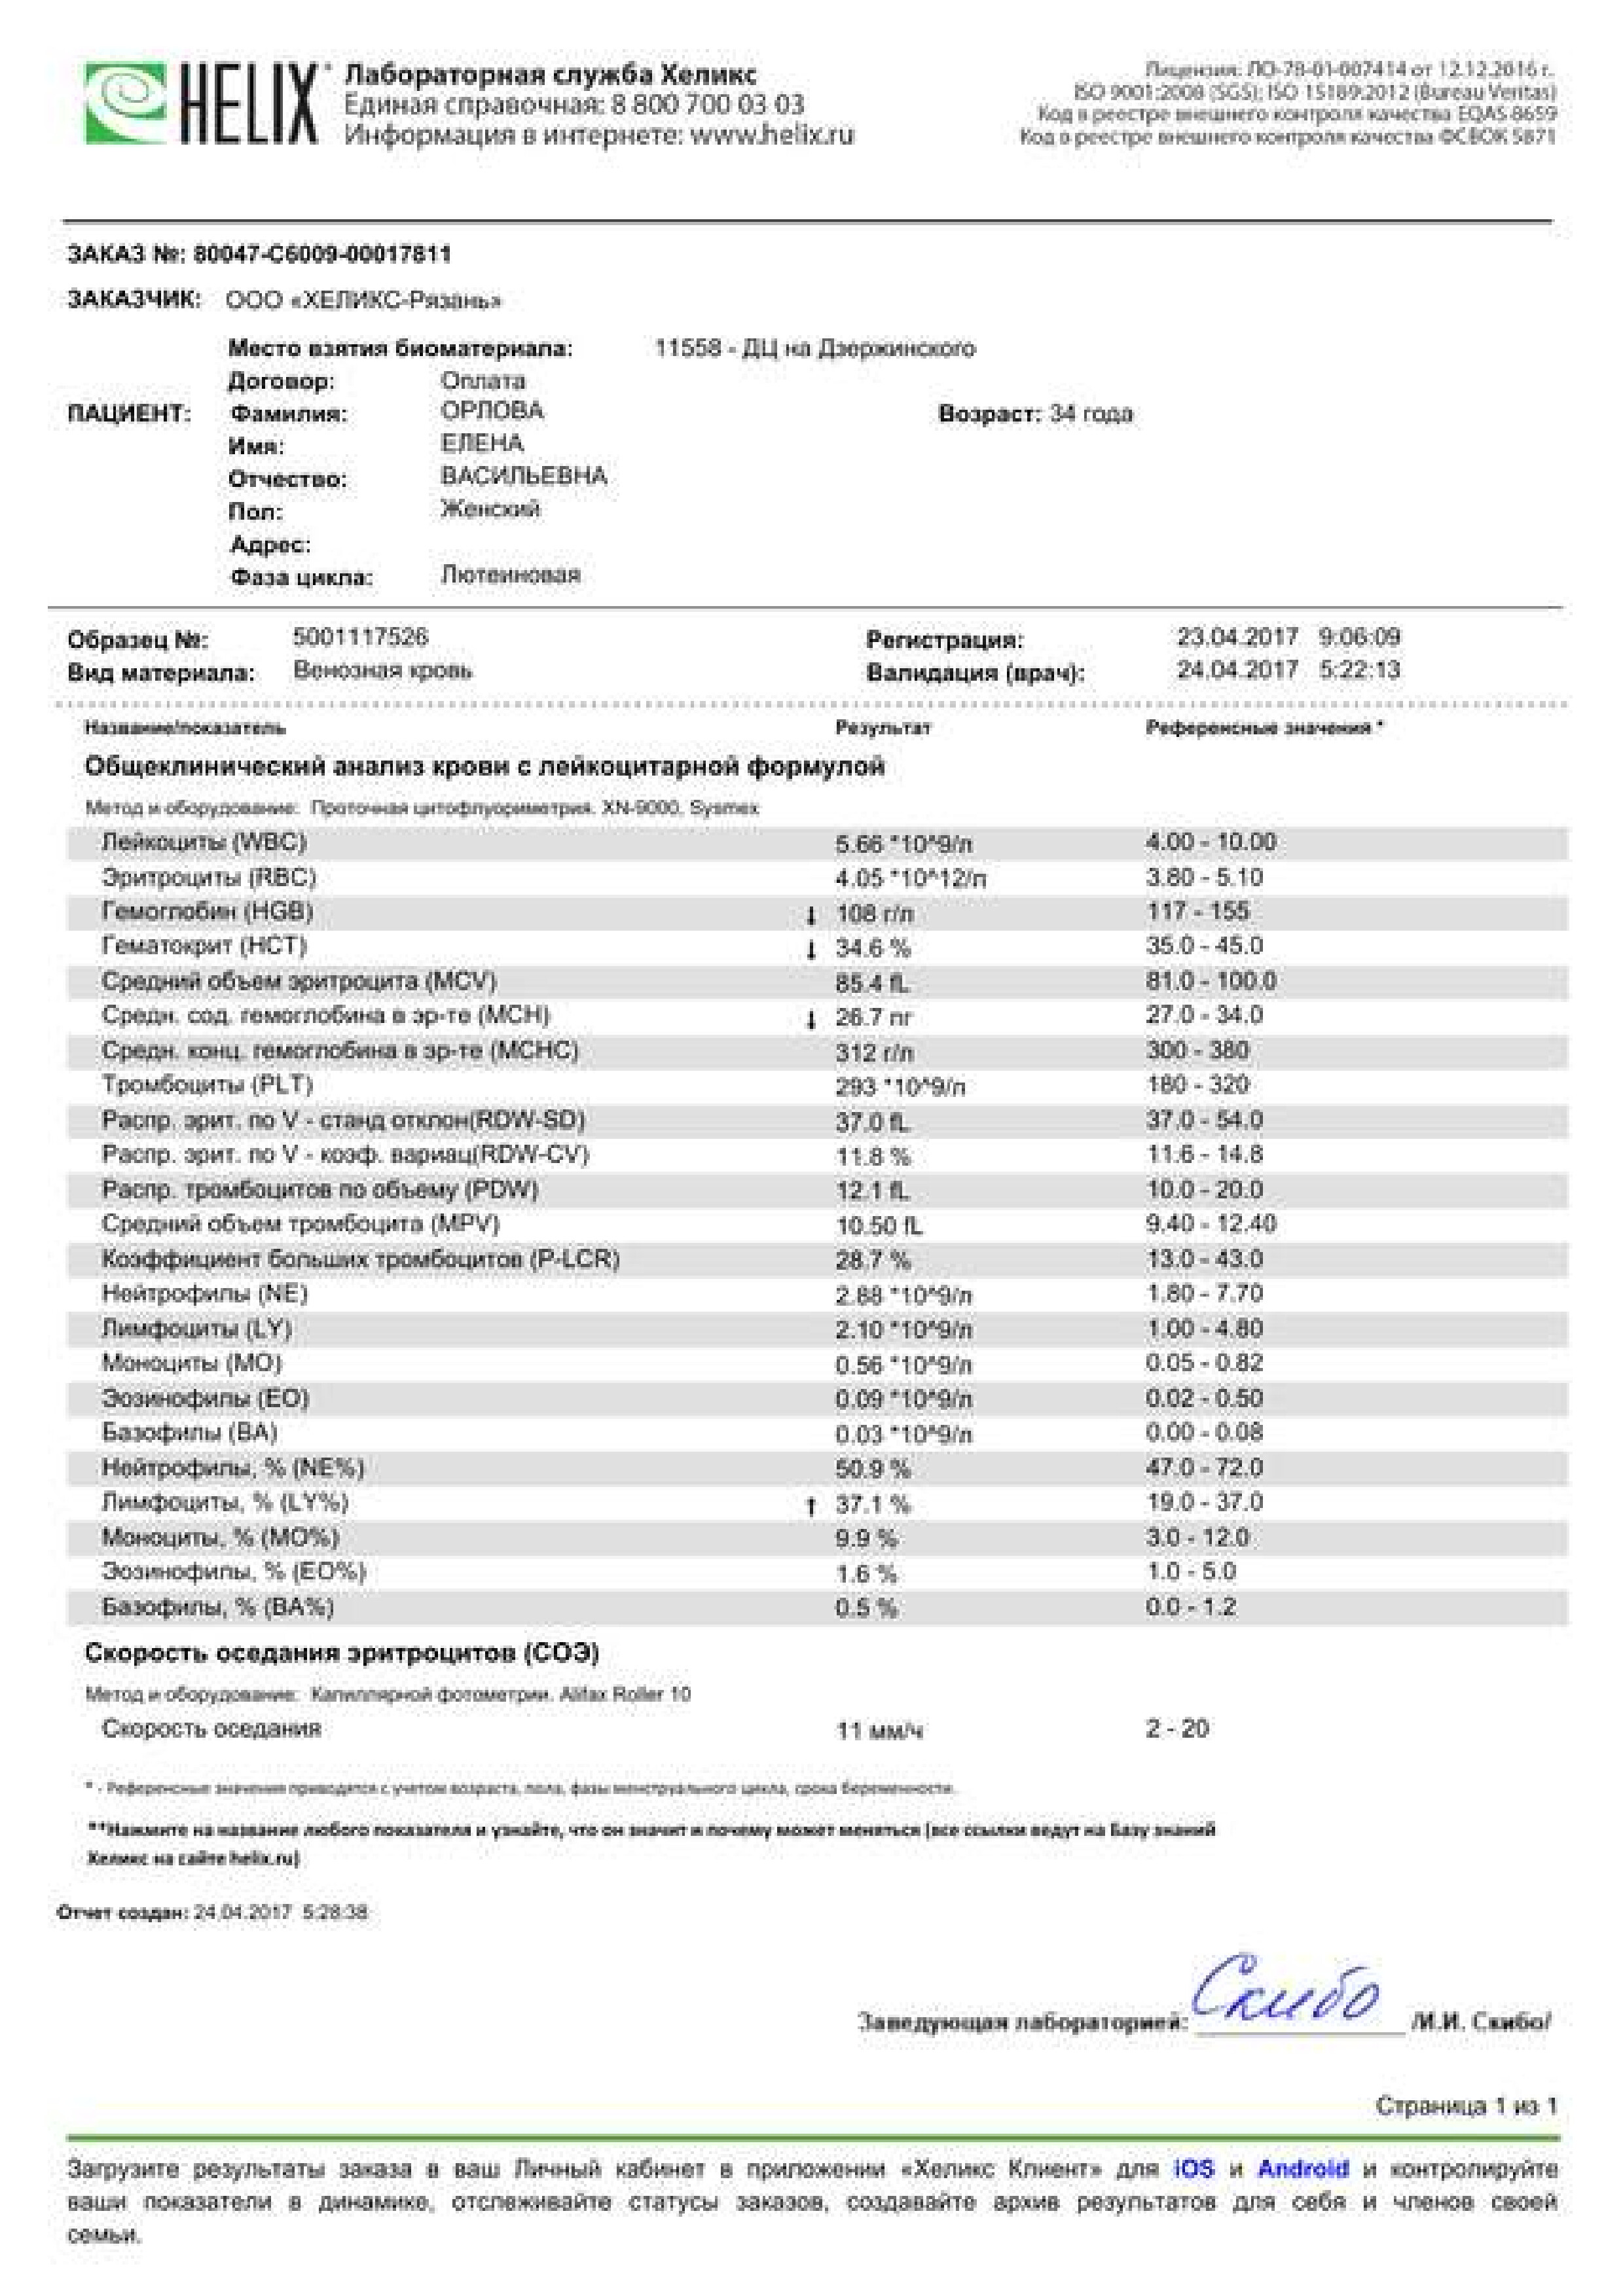column: (100, 829, 620, 1624), (834, 829, 987, 1624), (1143, 829, 1279, 1624), (100, 1715, 321, 1741), (1145, 718, 1370, 739), (84, 718, 286, 739), (838, 1715, 924, 1741), (836, 718, 933, 739), (1145, 1715, 1210, 1741)
